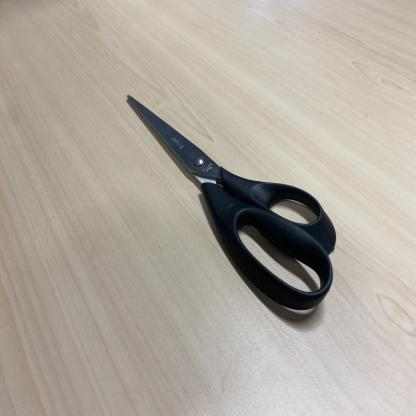scissors: (126, 93, 340, 312)
